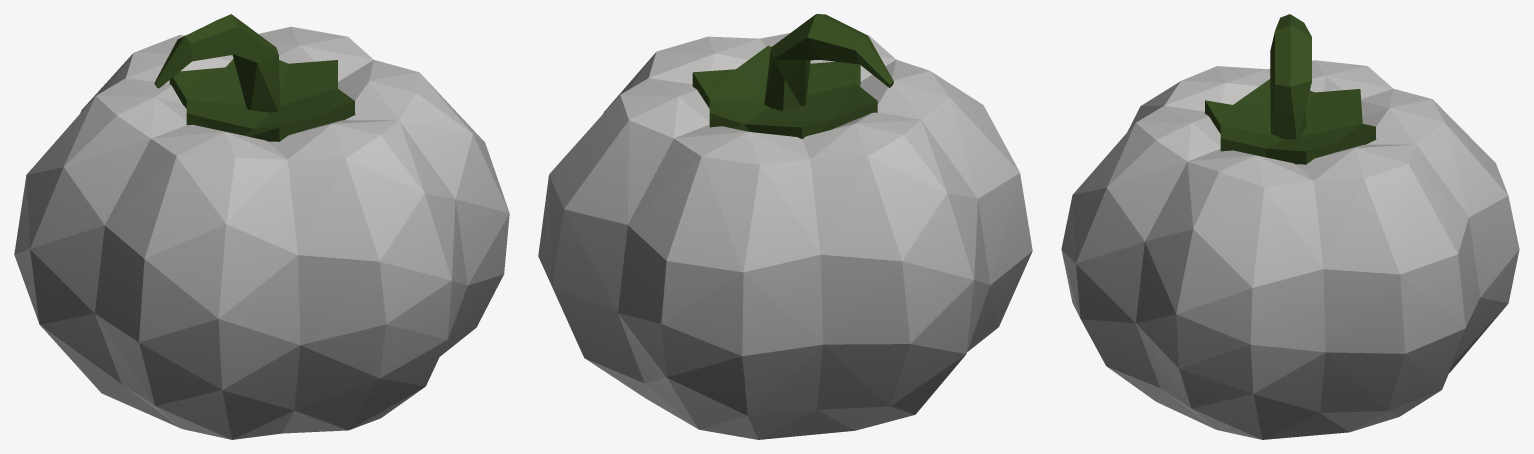
File: Pumpkin_03.fbx
3 renders of one model, left to right at view 1: azimuth 30°, elevation 25°; view 2: azimuth 150°, elevation 25°; view 3: azimuth 270°, elevation 25°, orthographic. The views are drawn at different scales.
Visible parts, largest first — view 1: Pumpkin_03; view 2: Pumpkin_03; view 3: Pumpkin_03.
Boxes of the visible parts, x1,y1,x2,y2 form: Pumpkin_03: (14,14,509,439); Pumpkin_03: (538,14,1032,439); Pumpkin_03: (1061,14,1519,439).
Size of the model in its own units: 0.4527 by 0.3937 by 0.4603.
